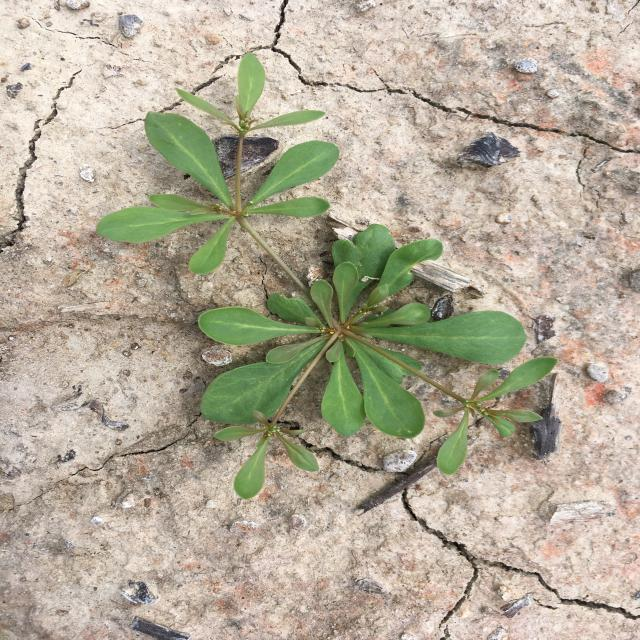Carpetweed: (96, 52, 559, 500)
